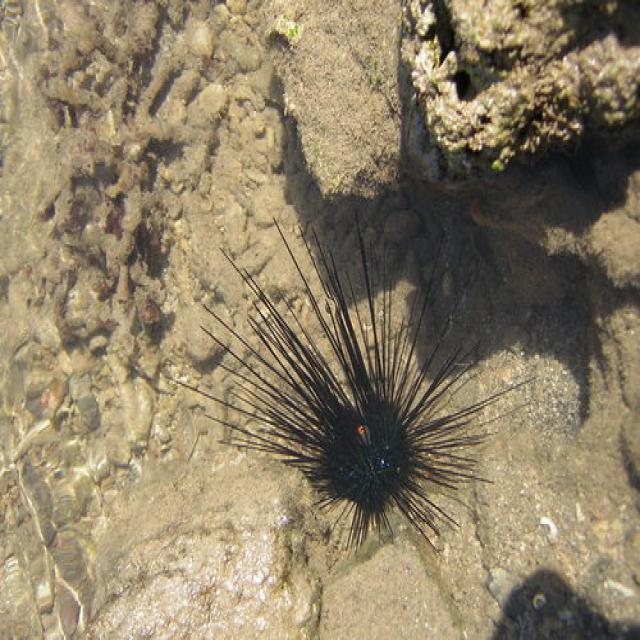Urchin: (166, 210, 536, 551)
